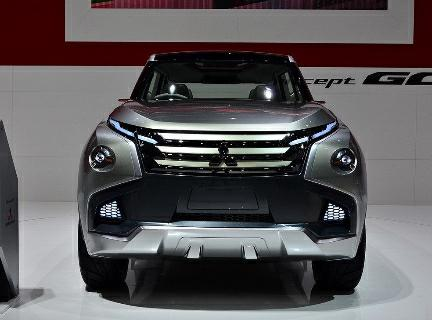三菱-GC-PHEV: (67, 41, 378, 310)
